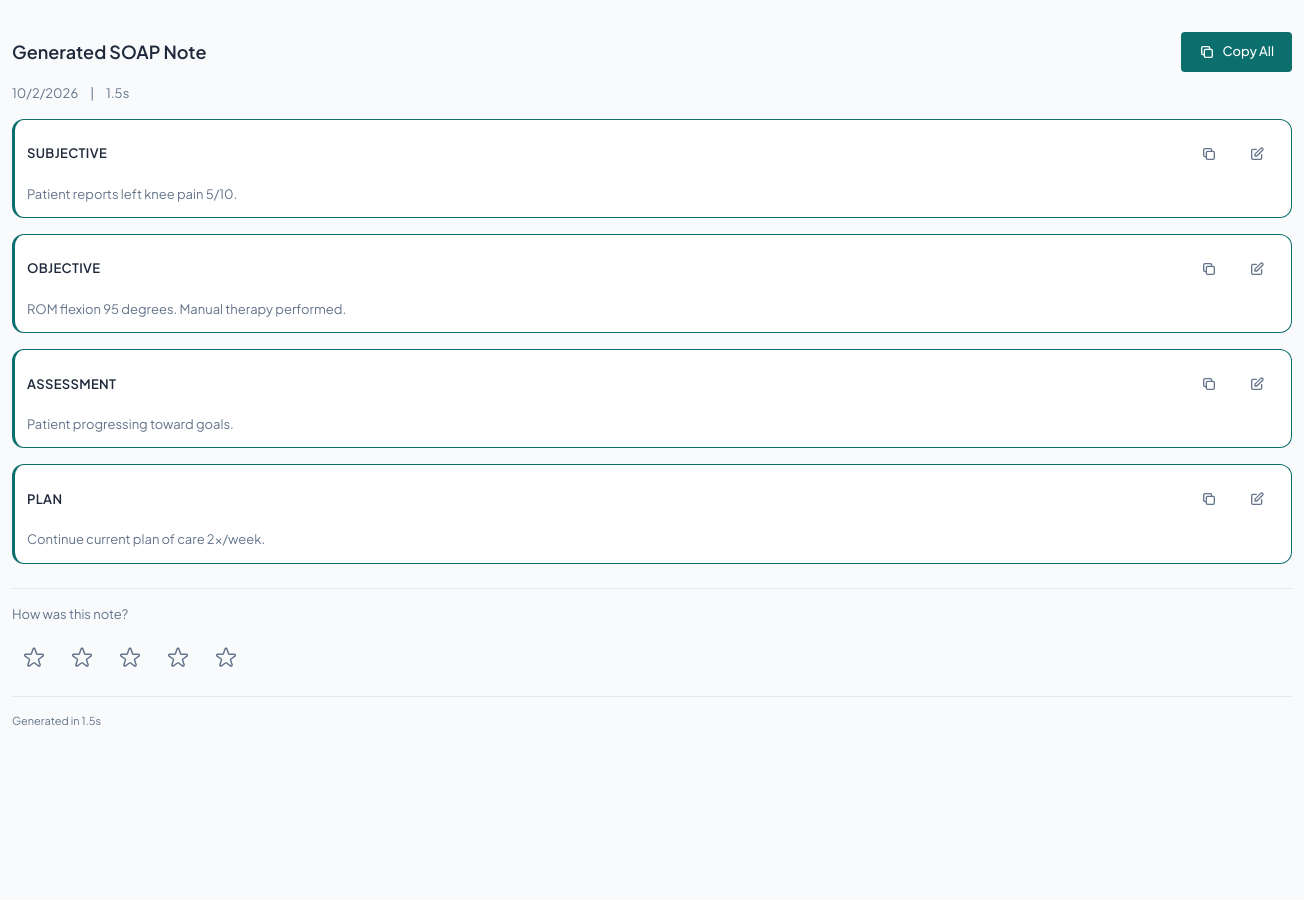
Test: GeneratedNote › shows fallback textarea when clipboard.writeText rejects
The width and height of the screenshot is (1304, 900).
Click the button named "Copy Subjective section": (1209, 154) [1187,132,1231,176]
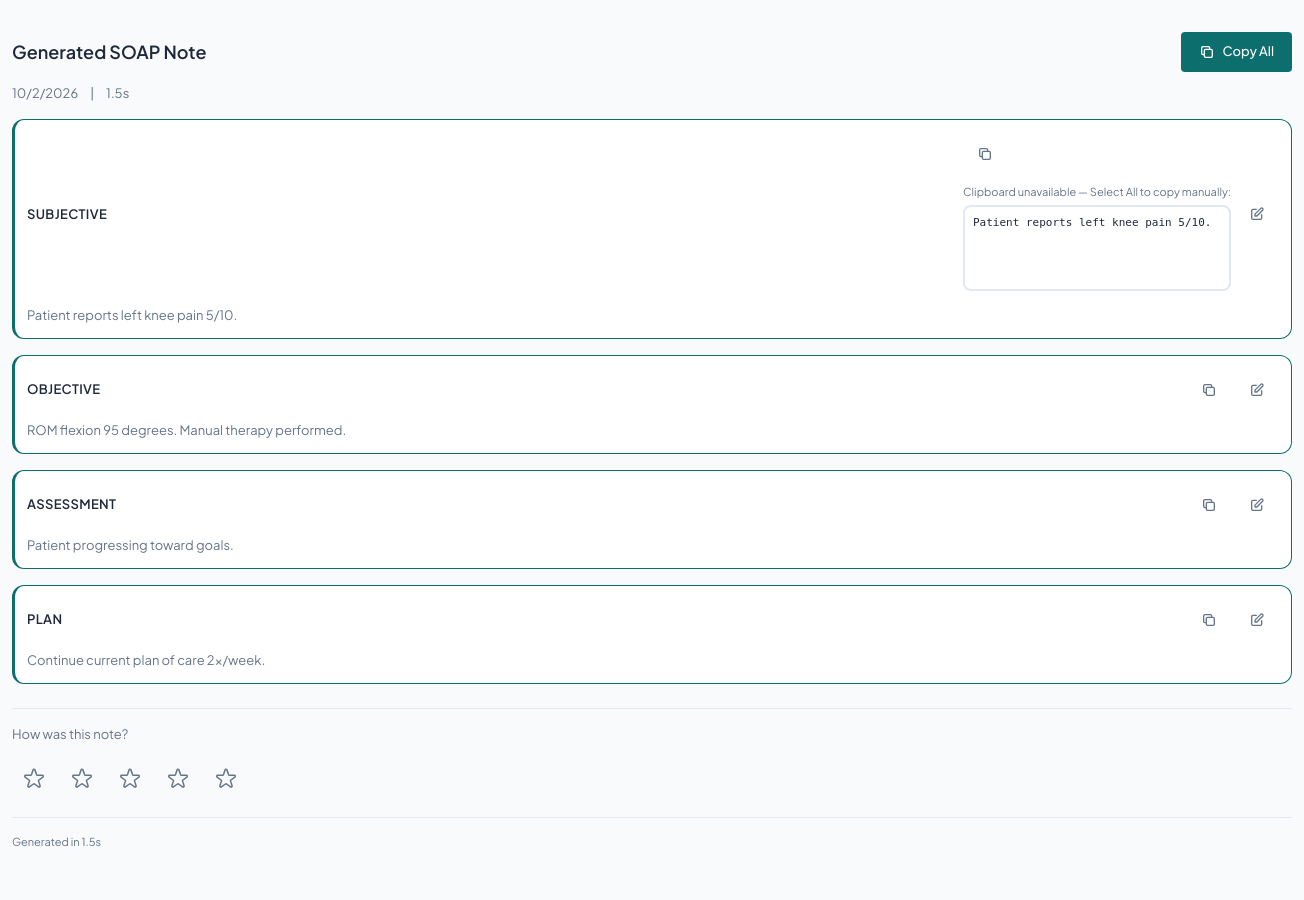
expect the text "Clipboard unavailable — Select All to copy manually:" is shown: met, box [963,184,1231,200]
expect the text box named "Copy Subjective section — manual copy fallback" holds "Patient reports left knee pain 5/10.": met, box [963,204,1231,290]
